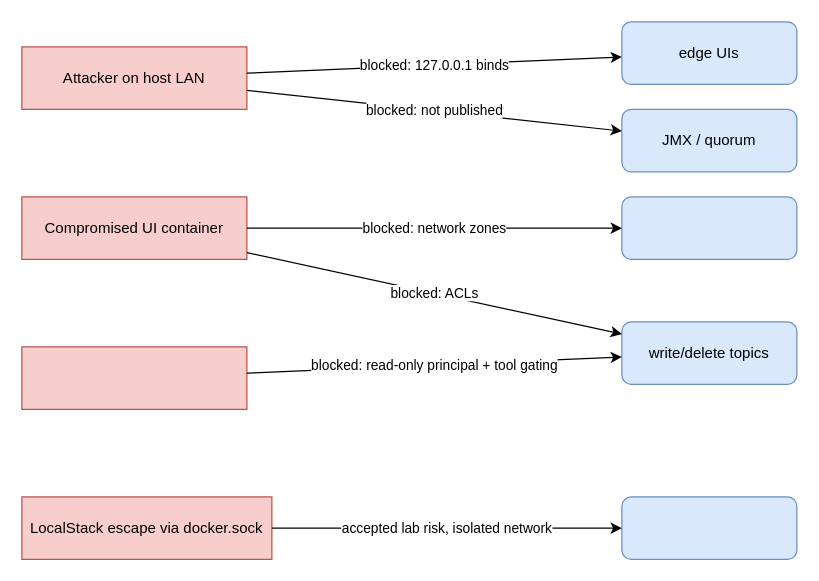
This 819x581 diagram has some shape labels left out. The shapes that lost their labels are listed below. From the top down, each one's centre as x and y in pixels, then its label:
At point (709, 227): "controllers".
At point (134, 377): "Prompt-injected MCP agent".
At point (709, 527): "Host".
